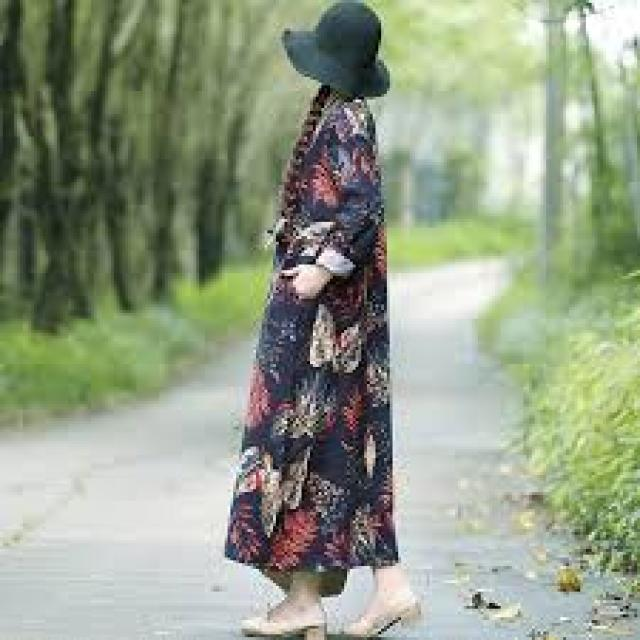clothes: (241, 92, 408, 577)
